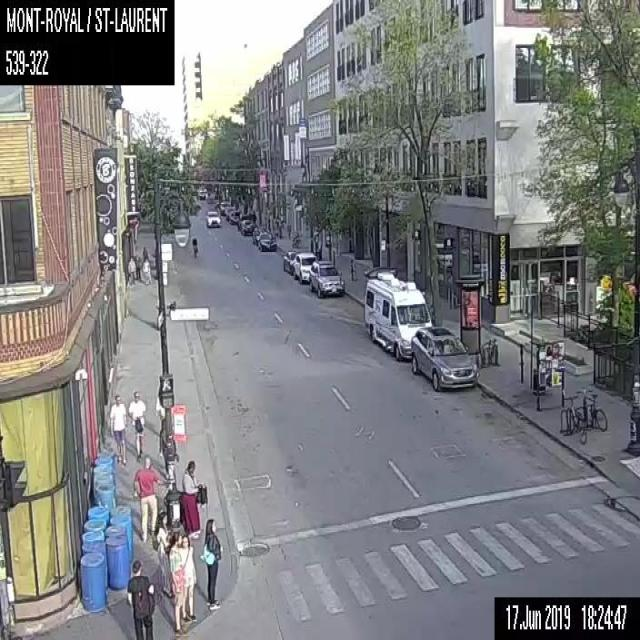cyclist: (189, 235, 198, 257)
pedestrian: (133, 455, 159, 543), (180, 457, 208, 537), (125, 560, 153, 639), (166, 530, 186, 634), (200, 518, 221, 610), (108, 393, 126, 467), (182, 532, 197, 620), (127, 390, 146, 453), (126, 255, 136, 285), (140, 260, 151, 284), (141, 243, 150, 264)
vehicle: (363, 270, 431, 358), (410, 327, 478, 391), (310, 262, 344, 297), (292, 252, 314, 283), (258, 232, 276, 251), (238, 219, 257, 235), (206, 210, 220, 227), (283, 250, 293, 273), (227, 208, 238, 224)
